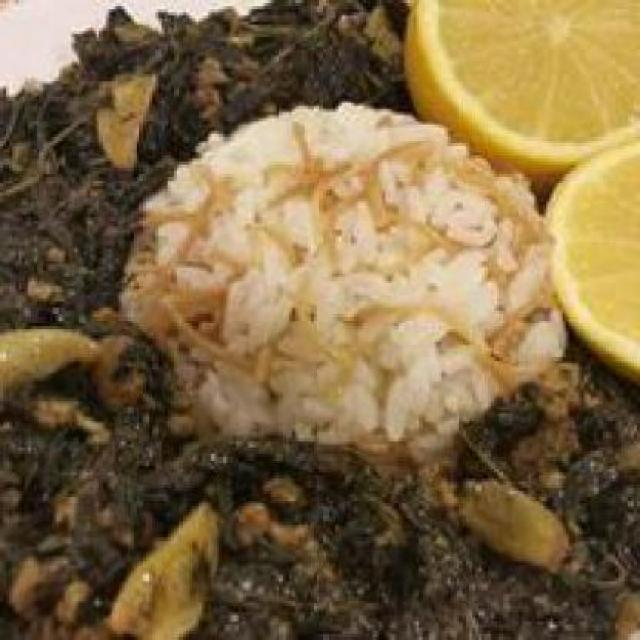fried rice: (127, 92, 568, 466)
